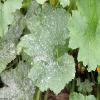Squash Powdery mildew leaf: (20, 0, 78, 92), (4, 2, 40, 42), (1, 62, 36, 100), (0, 40, 21, 73)
